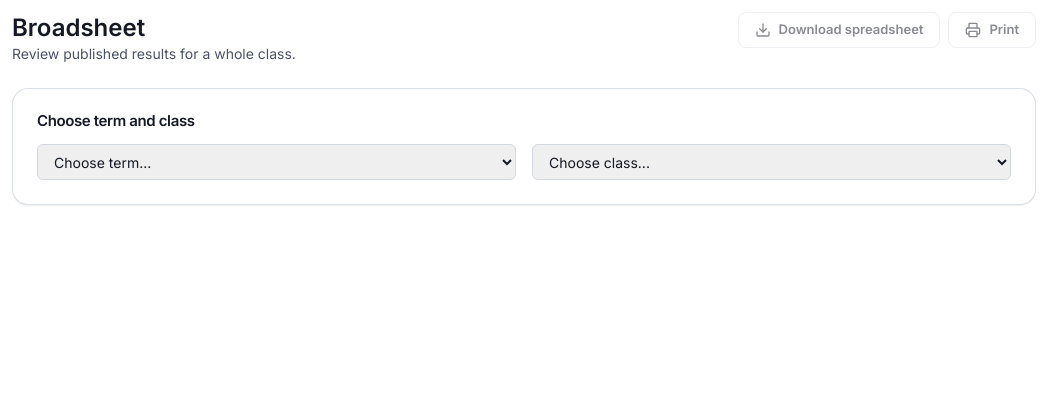
Test case: Broadsheet — downloading the sheet › asks the API for the class and term the user picked
Select "First Term" in the 1st dropdown at (276, 162), box [37,144,516,180]
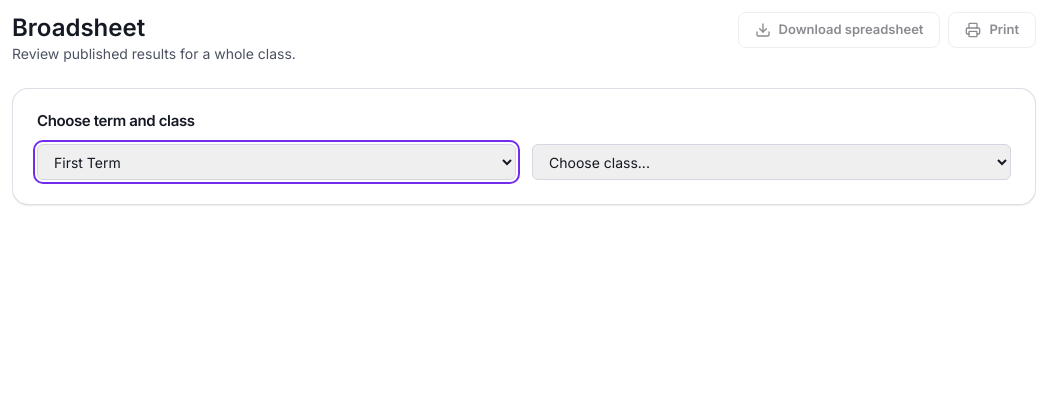
Select "JSS 2B" in the 2nd dropdown at (772, 162), box [532,144,1011,180]
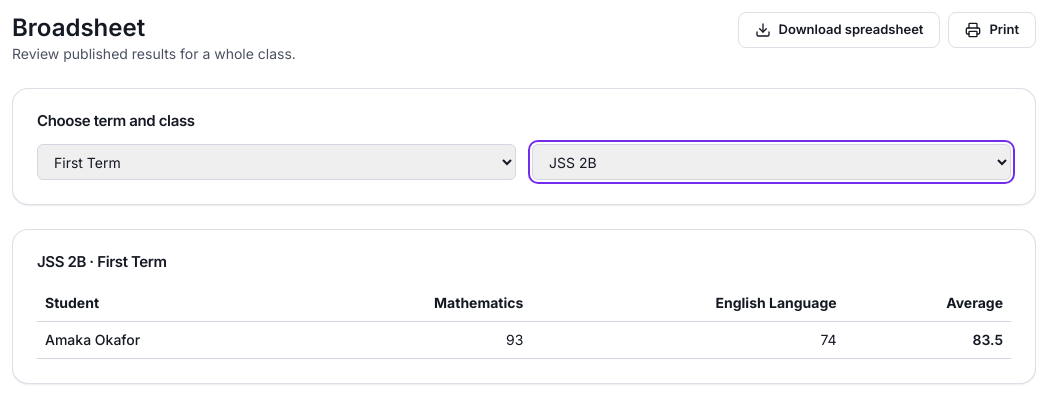
Expected: the text "Amaka Okafor" is shown, [37,322,291,358]
